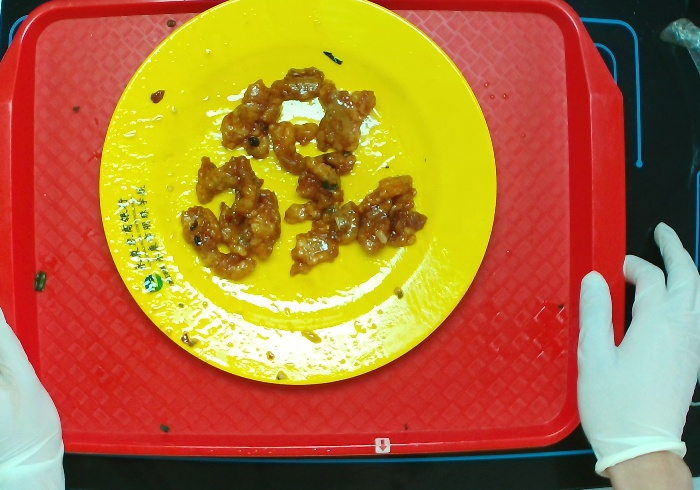YKMZ-Huang_Se_Mian_Pan: (99, 1, 500, 397)
